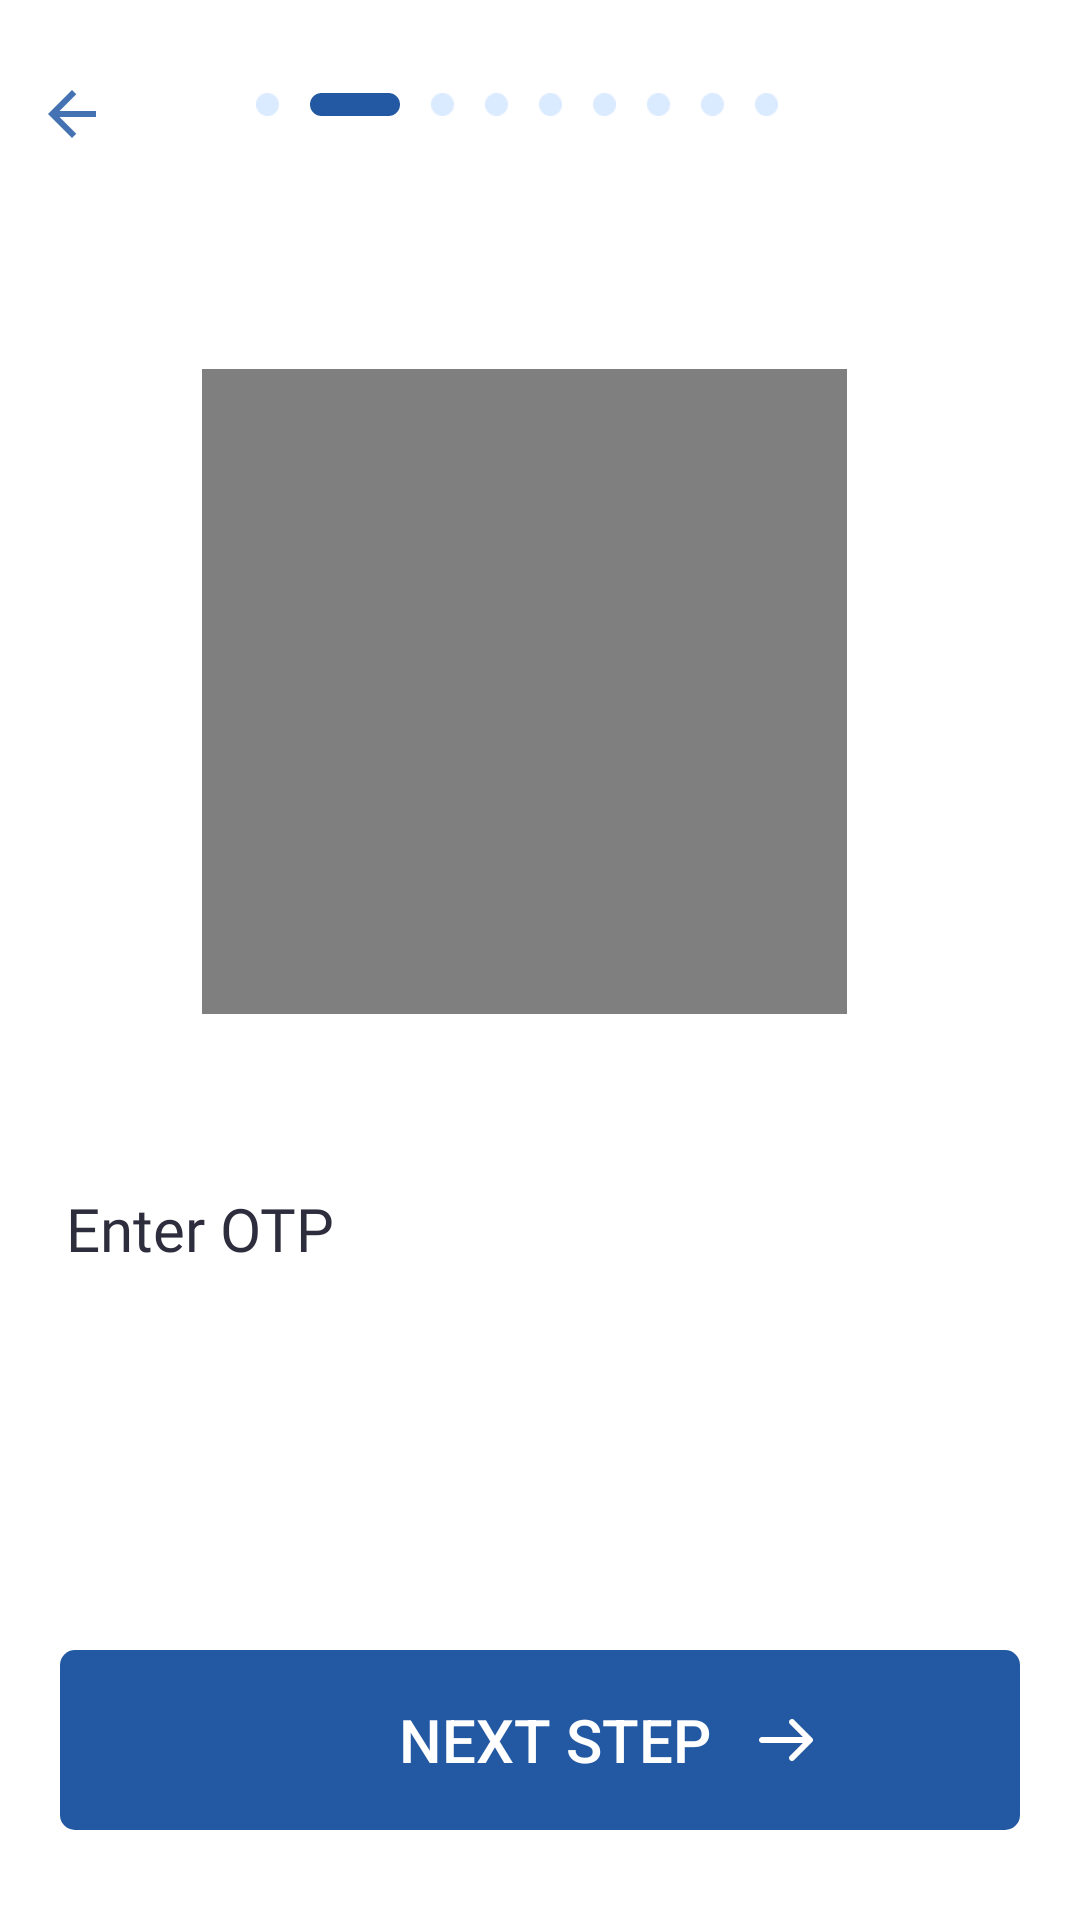

Where to tap for icons on this 1080x1920 app screen, as [x,y]:
feather arrow right: [786,1740]
